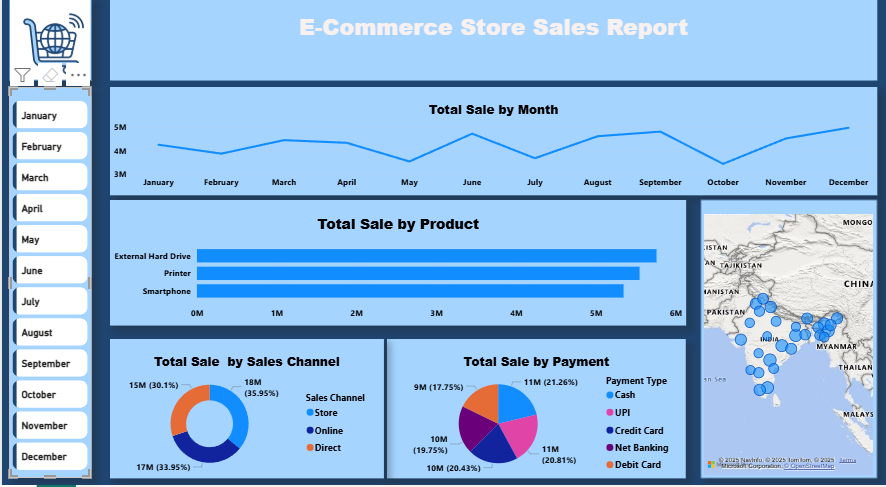

Layout of this report page (visuals, bound fields, positions):
{"tool":"powerbi","page":{"name":"Page 1","canvas":[1280,720],"ordinal":0},"visuals":[{"type":"shape","box":[10.1,2.9,119.5,121],"z":0},{"type":"image","box":[20.2,20.2,109.4,100.8],"z":1000},{"type":"shape","title":"E-Commerce Store Sales Report","box":[157,10.1,1111.7,121],"z":2000},{"type":"advancedSlicerVisual","fields":{"Values":["TechyStore Sales_Data.Sales Date.Variation.Date Hierarchy.Month"]},"box":[10.1,133.9,119.5,565.9],"z":3000},{"type":"lineChart","title":"Total Sale by Month","fields":{"Y":["Sum(TechyStore Sales_Data.Total Sale (INR))"],"Category":["TechyStore Sales_Data.Sales Date.Variation.Date Hierarchy.Month","TechyStore Sales_Data.Sales Date.Variation.Date Hierarchy.Day"]},"box":[156.7,133.3,1111.7,156.7],"z":4000},{"type":"map","fields":{"Category":["TechyStore Sales_Data.State"],"Size":["Sum(TechyStore Sales_Data.Total Sale (INR))"]},"box":[1013.3,296.7,255,403.3],"z":5000},{"type":"pieChart","title":"Total Sale by Payment ","fields":{"Category":["TechyStore Sales_Data.Payment Type"],"Y":["Sum(TechyStore Sales_Data.Total Sale (INR))"]},"box":[558.3,498.3,433.3,201.7],"z":6000},{"type":"clusteredBarChart","title":"Total Sale by Product","fields":{"Y":["Sum(TechyStore Sales_Data.Total Sale (INR))"],"Category":["TechyStore Sales_Data.Product"]},"box":[156.7,296.7,835,181.7],"z":7000},{"type":"donutChart","fields":{"Y":["Sum(TechyStore Sales_Data.Total Sale (INR))"],"Category":["TechyStore Sales_Data.Sales Channel"]},"box":[156.7,498.3,396.7,201.7],"z":8000}]}

Visuals, with their boxes in screenshot pixels (x1, y1, x2, y2):
shape: (x1=5, y1=0, x2=87, y2=79)
image: (x1=12, y1=7, x2=87, y2=77)
"E-Commerce Store Sales Report" shape: (x1=106, y1=0, x2=875, y2=84)
advancedSlicerVisual - TechyStore Sales_Data.Sales Date.Variation.Date Hierarchy.Month: (x1=5, y1=86, x2=87, y2=477)
"Total Sale by Month" lineChart: (x1=106, y1=85, x2=875, y2=194)
map - TechyStore Sales_Data.State x Sum(TechyStore Sales_Data.Total Sale (INR)): (x1=698, y1=198, x2=875, y2=477)
"Total Sale by Payment " pieChart: (x1=384, y1=338, x2=683, y2=477)
"Total Sale by Product" clusteredBarChart: (x1=106, y1=198, x2=683, y2=324)
donutChart - Sum(TechyStore Sales_Data.Total Sale (INR)) x TechyStore Sales_Data.Sales Channel: (x1=106, y1=338, x2=380, y2=477)
